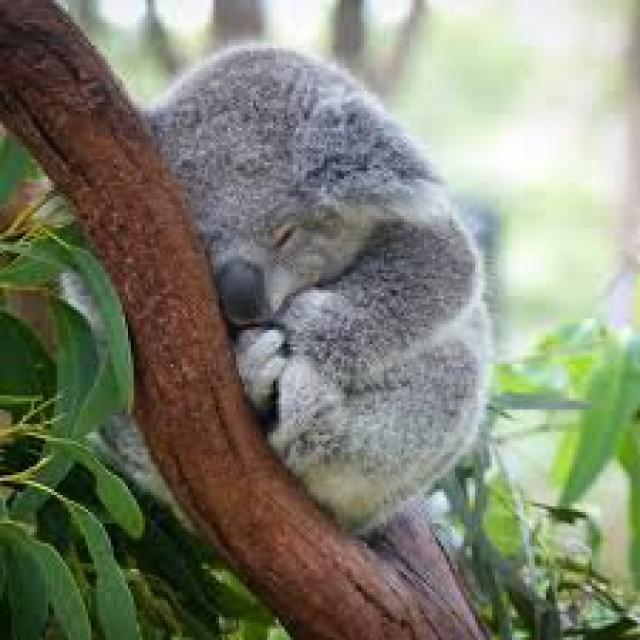Koala: (136, 41, 497, 534)
